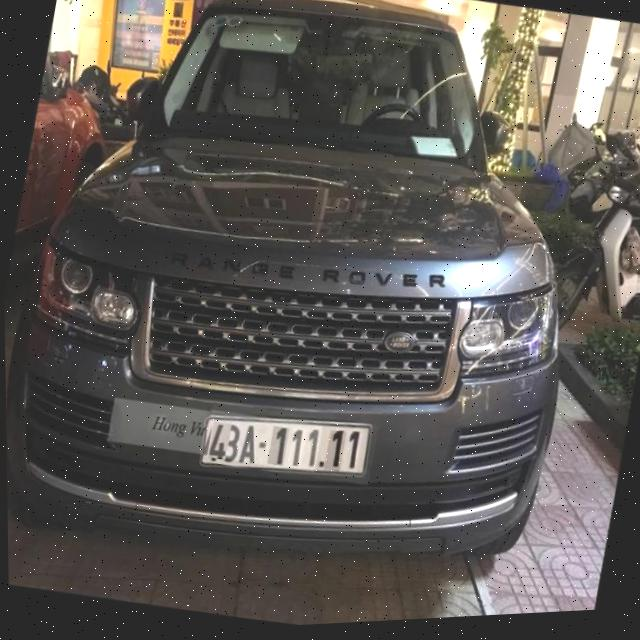car: (0, 0, 632, 635)
plate: (191, 394, 378, 498)
